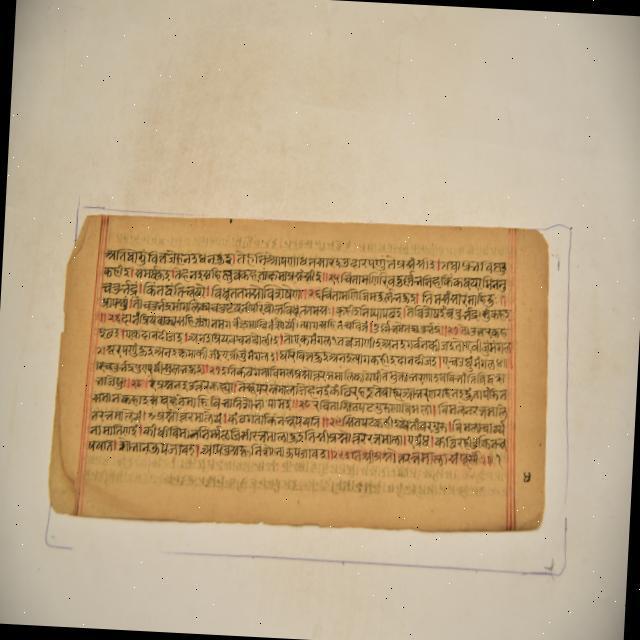text_paragraph: (51, 210, 543, 526)
